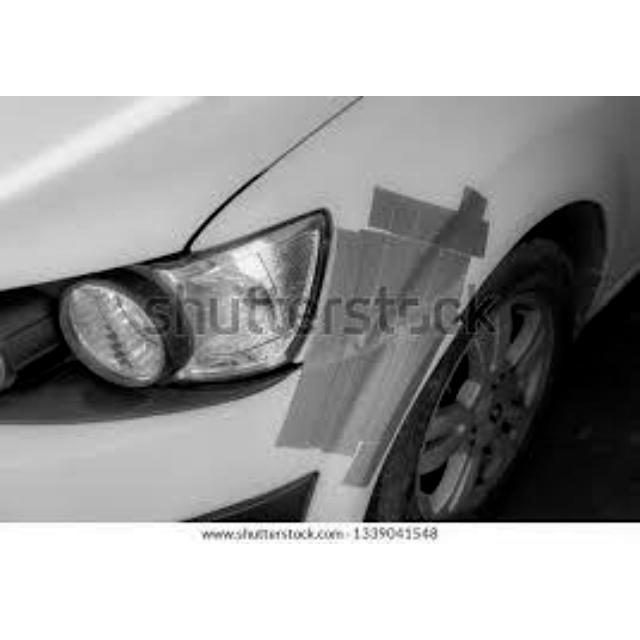fender-dent: (244, 106, 638, 361)
